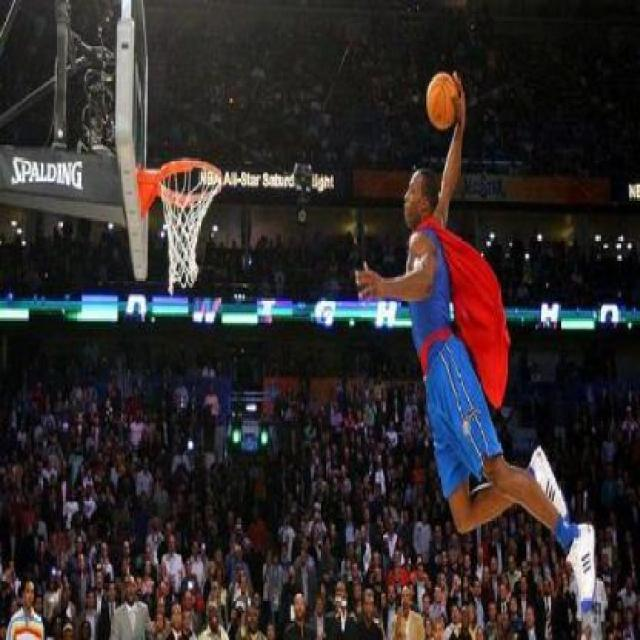basketball: (425, 71, 459, 131)
rim: (158, 159, 222, 293)
